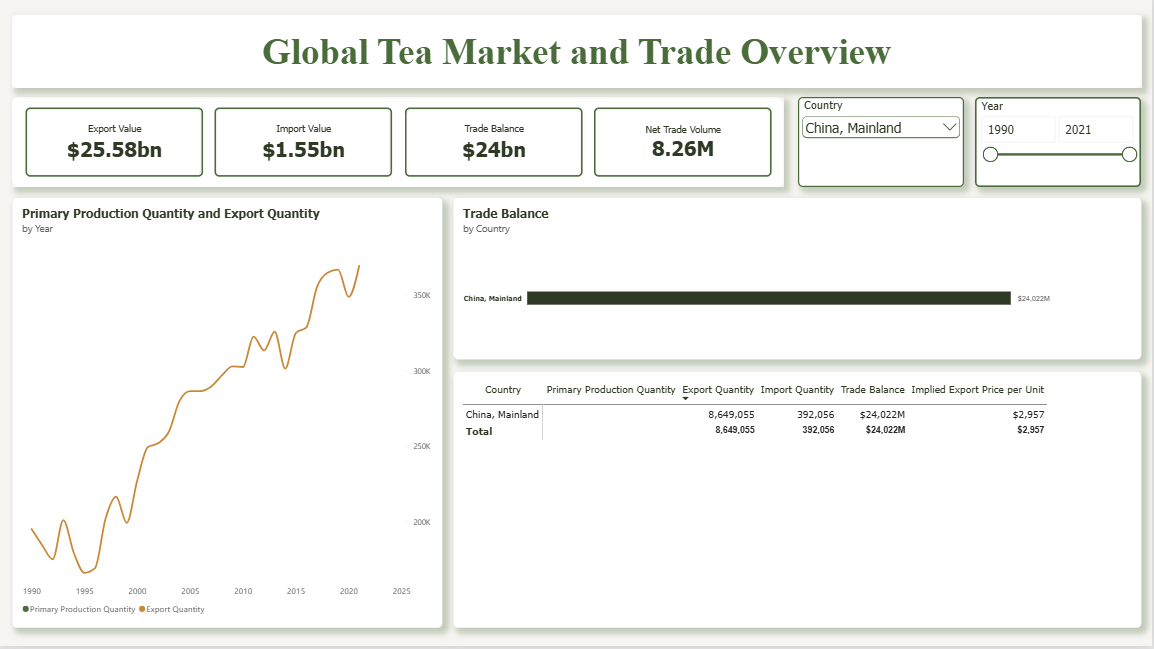

This screenshot's page, from the dashboard's own definition file:
{"tool":"powerbi","page":{"name":"Page 1","canvas":[1920,1080],"ordinal":0},"visuals":[{"type":"shape","box":[19.1,164.6,1286,150.3],"z":0},{"type":"lineChart","fields":{"Category":["Dim_Date.Year"],"Y":["_Measures.Primary Production Quantity"],"Y2":["_Measures.Export Quantity"]},"box":[20,332.5,717.5,717.5],"z":1000},{"type":"clusteredBarChart","fields":{"Category":["Dim_Country.Country"],"Y":["_Measures.Trade Balance"]},"box":[755,332.5,1147.5,270],"z":2000},{"type":"pivotTable","fields":{"Rows":["Dim_Country.Country"],"Values":["_Measures.Primary Production Quantity","_Measures.Export Quantity","_Measures.Import Quantity","_Measures.Trade Balance","_Measures.Implied Export Price per Unit"]},"box":[755,622.5,1147.5,427.5],"z":3000},{"type":"slicer","fields":{"Values":["Dim_Country.Country"]},"box":[1329,164.6,276.8,150.3],"z":4000},{"type":"slicer","fields":{"Values":["Dim_Date.Year"]},"box":[1624.8,164.6,276.8,150.3],"z":5000},{"type":"shape","box":[20,27.5,1882.5,122.5],"z":6000},{"type":"cardVisual","fields":{"Data":["_Measures.Export Value"]},"box":[42.5,182.5,296.2,115],"z":7000},{"type":"cardVisual","fields":{"Data":["_Measures.Import Value"]},"box":[356.2,182.5,296.2,115],"z":8000},{"type":"cardVisual","fields":{"Data":["_Measures.Trade Balance"]},"box":[673.8,182.5,296.2,115],"z":9000},{"type":"cardVisual","fields":{"Data":["_Measures.Net Trade Volume"]},"box":[990,182.5,296.2,115],"z":10000}]}

Visuals, with their boxes in screenshot pixels (x1, y1, x2, y2), scaled from the page's 1920x1080 canvas onto the 1154x649 screenshot:
shape: 11/99/784/189
lineChart - Dim_Date.Year x _Measures.Primary Production Quantity: 12/200/443/631
clusteredBarChart - Dim_Country.Country x _Measures.Trade Balance: 454/200/1143/362
pivotTable - Dim_Country.Country x _Measures.Primary Production Quantity: 454/374/1143/631
slicer - Dim_Country.Country: 799/99/965/189
slicer - Dim_Date.Year: 977/99/1143/189
shape: 12/17/1143/90
cardVisual - _Measures.Export Value: 26/110/204/179
cardVisual - _Measures.Import Value: 214/110/392/179
cardVisual - _Measures.Trade Balance: 405/110/583/179
cardVisual - _Measures.Net Trade Volume: 595/110/773/179
